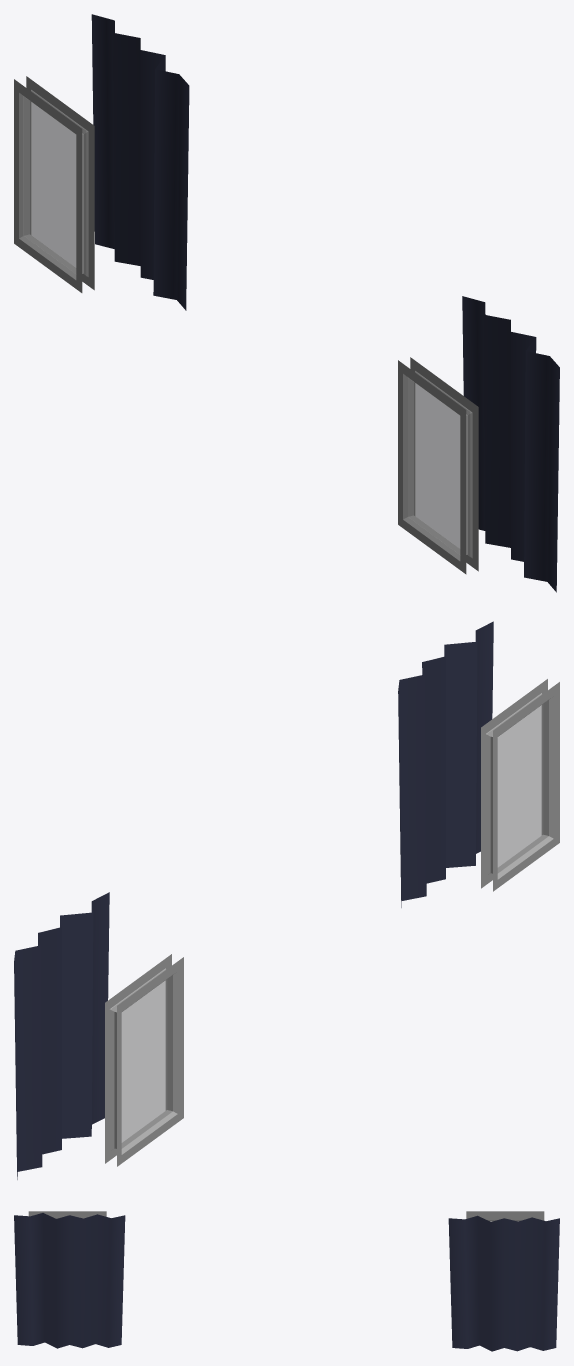
The model's file is FrontWindows.fbx.
3 views of the same model, one above another, from view 1: azimuth 30°, elevation 25°; view 2: azimuth 150°, elevation 25°; view 3: azimuth 270°, elevation 25° (orthographic). The views are drawn at different scales.
Parts seen in each view (by area): view 1: Curtain1, Curtain2, FrontWindow1, FrontWindow; view 2: Curtain1, Curtain2, FrontWindow1, FrontWindow; view 3: Curtain2, Curtain1, FrontWindow, FrontWindow1.
Boxes of the visible parts, <box> form: Curtain1: <box>91,14,189,310</box>; Curtain2: <box>462,296,559,592</box>; FrontWindow1: <box>398,357,478,574</box>; FrontWindow: <box>14,76,94,292</box>; Curtain1: <box>14,892,109,1179</box>; Curtain2: <box>398,621,493,907</box>; FrontWindow1: <box>481,679,559,891</box>; FrontWindow: <box>105,954,183,1166</box>; Curtain2: <box>14,1213,125,1348</box>; Curtain1: <box>448,1215,559,1351</box>; FrontWindow: <box>466,1211,544,1221</box>; FrontWindow1: <box>28,1211,106,1218</box>.
Bounding box in the file's own units: 65.94 × 137 × 522.
